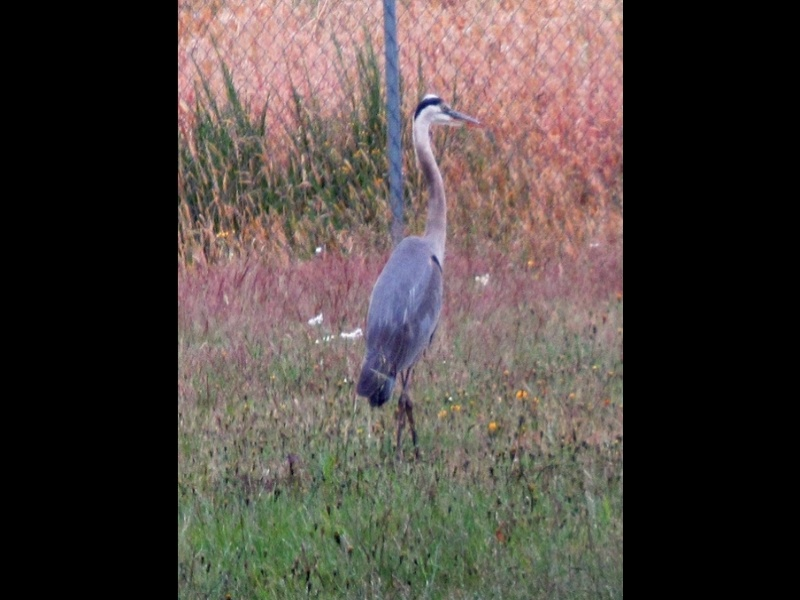heron: (357, 95, 479, 460)
